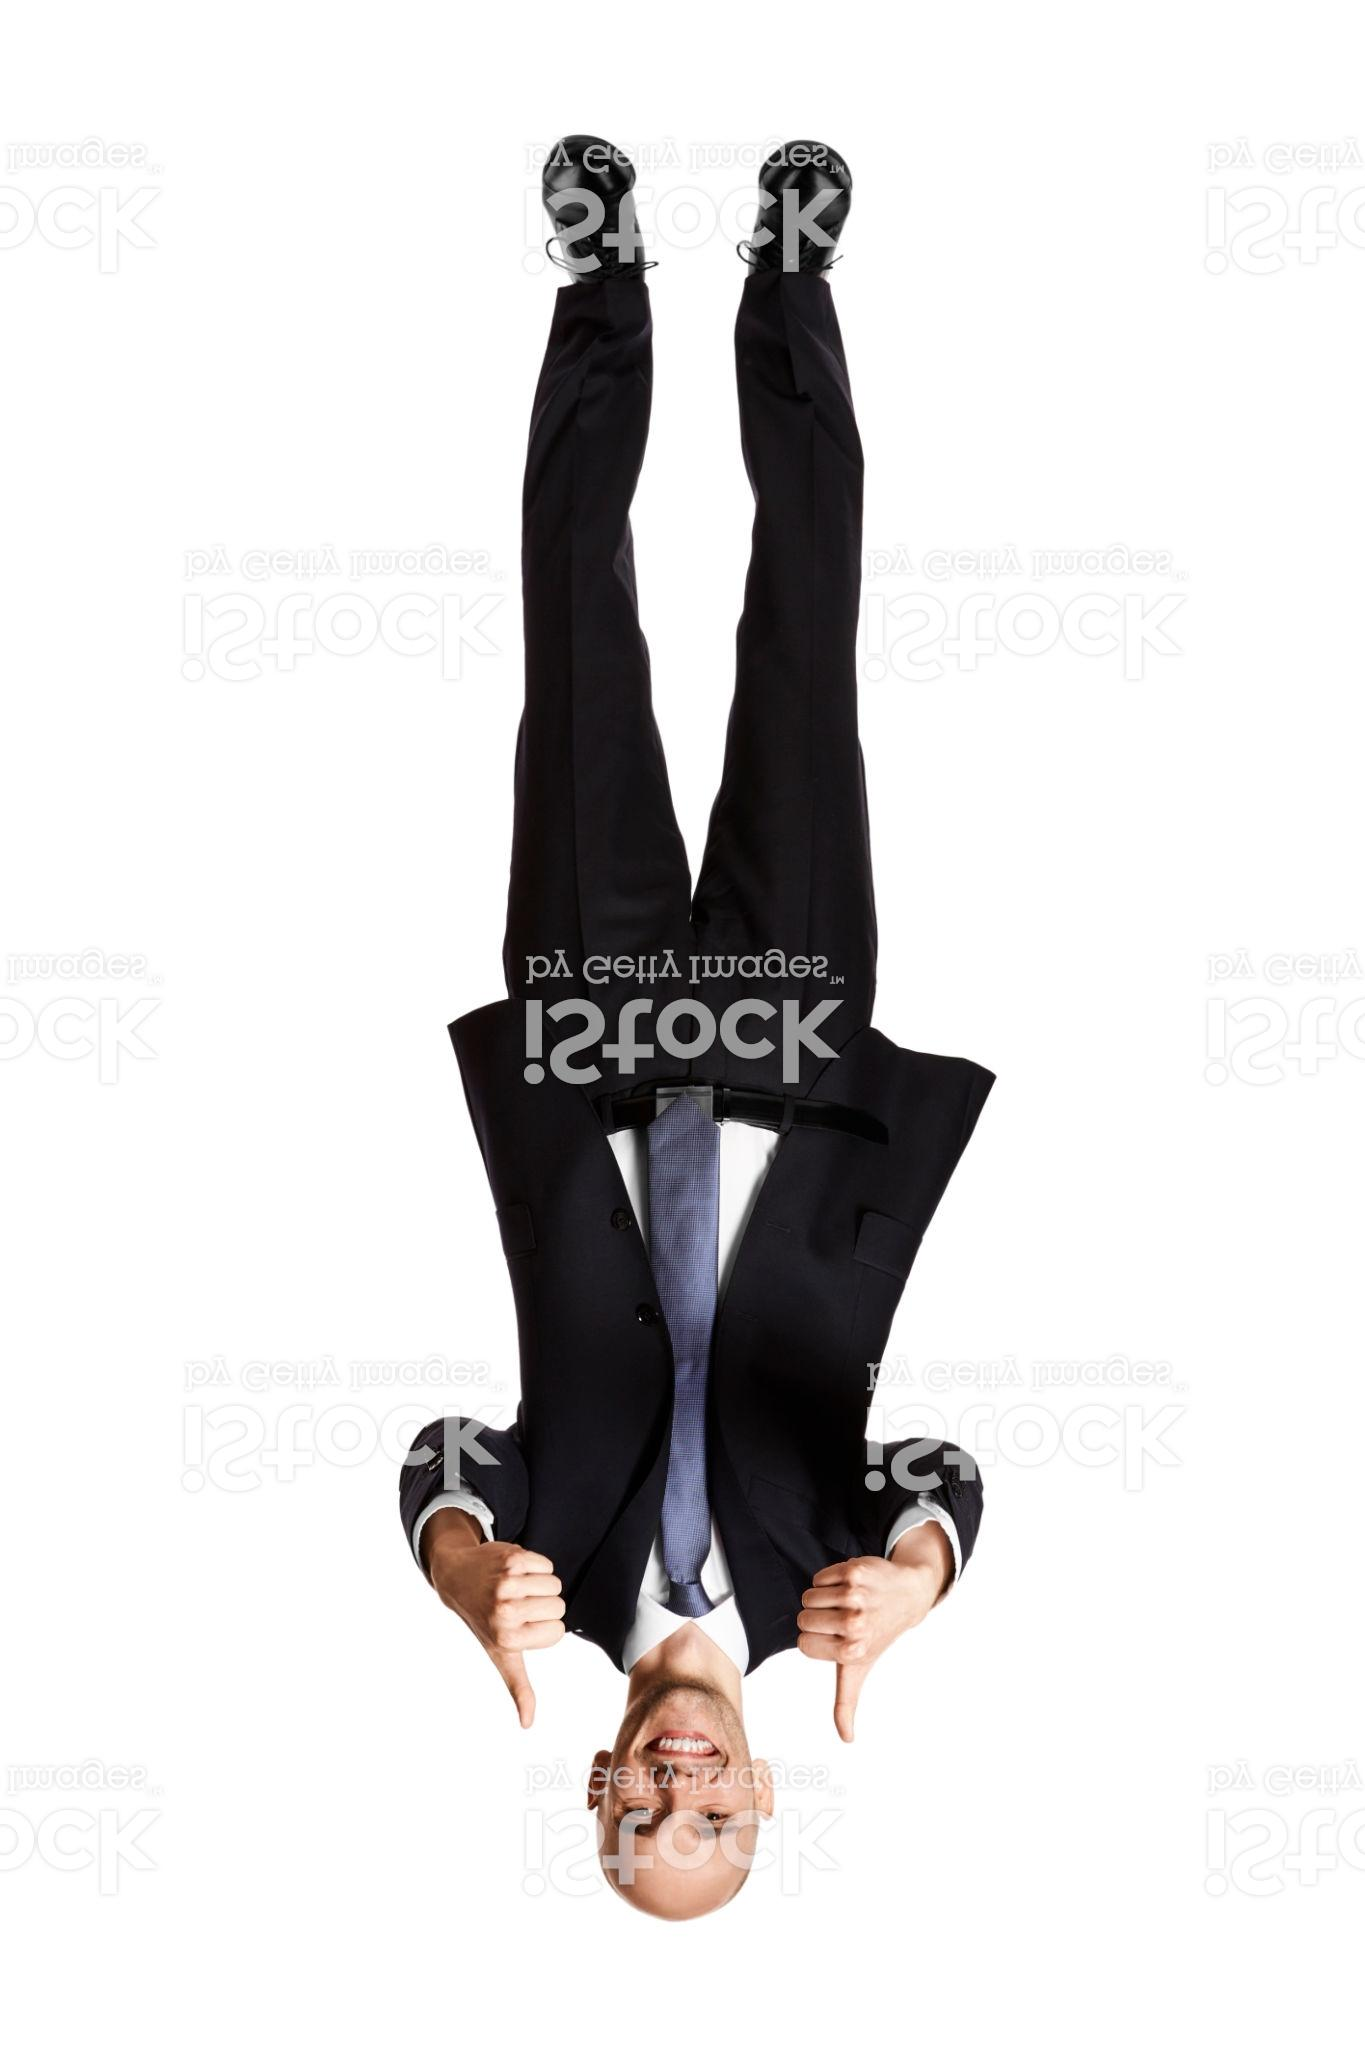thumbsdown: (462, 1541, 568, 1731), (794, 1555, 893, 1745)
